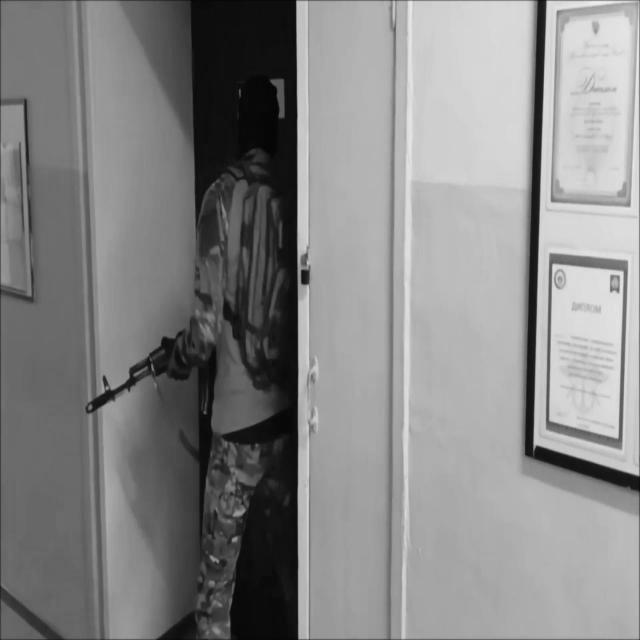gun: (84, 322, 218, 424)
person with a gun: (84, 73, 296, 640)
